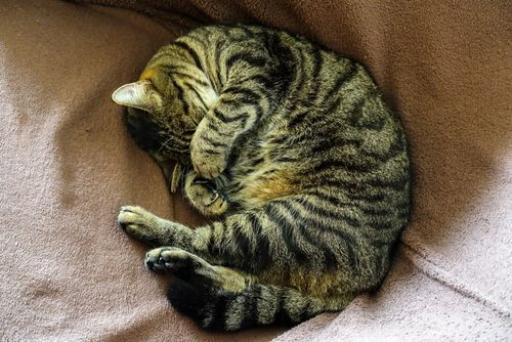cat_sleeping: (114, 25, 410, 330)
